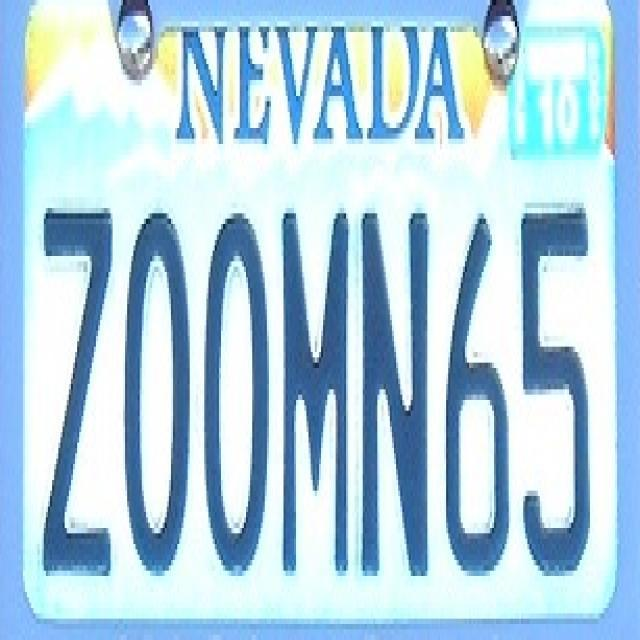0: (120, 196, 195, 597), (200, 191, 274, 593)
5: (516, 191, 596, 589)
6: (442, 190, 512, 590)
M: (278, 190, 358, 580)
N: (354, 189, 432, 597)
Z: (28, 190, 116, 586)
